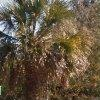Palm tree: (5, 4, 73, 84)
